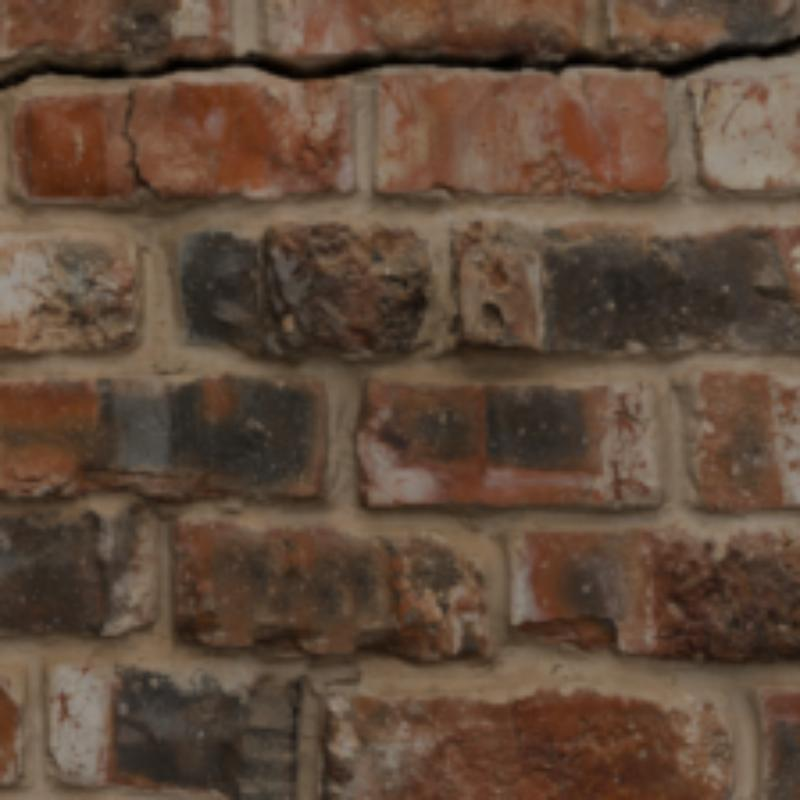pothole: (0, 32, 796, 89), (125, 89, 150, 189)
